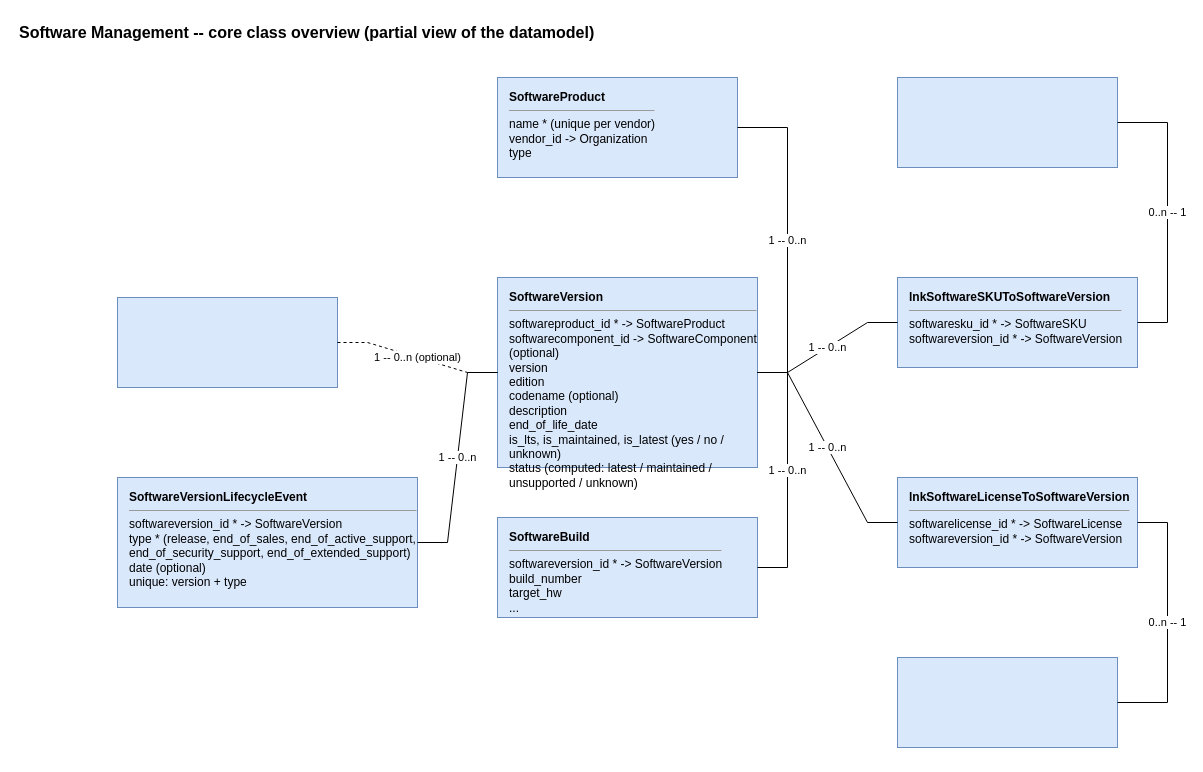
Image size: 1203x772. Some labels were removed from this diagram. Each missing label, with the box of its shape:
SoftwareComponent name * (unique) description: (116, 296, 338, 388)
SoftwareLicense (parent: FunctionalCI) name * type ...: (896, 656, 1118, 748)
SoftwareSKU name * (unique) description: (896, 76, 1118, 168)
